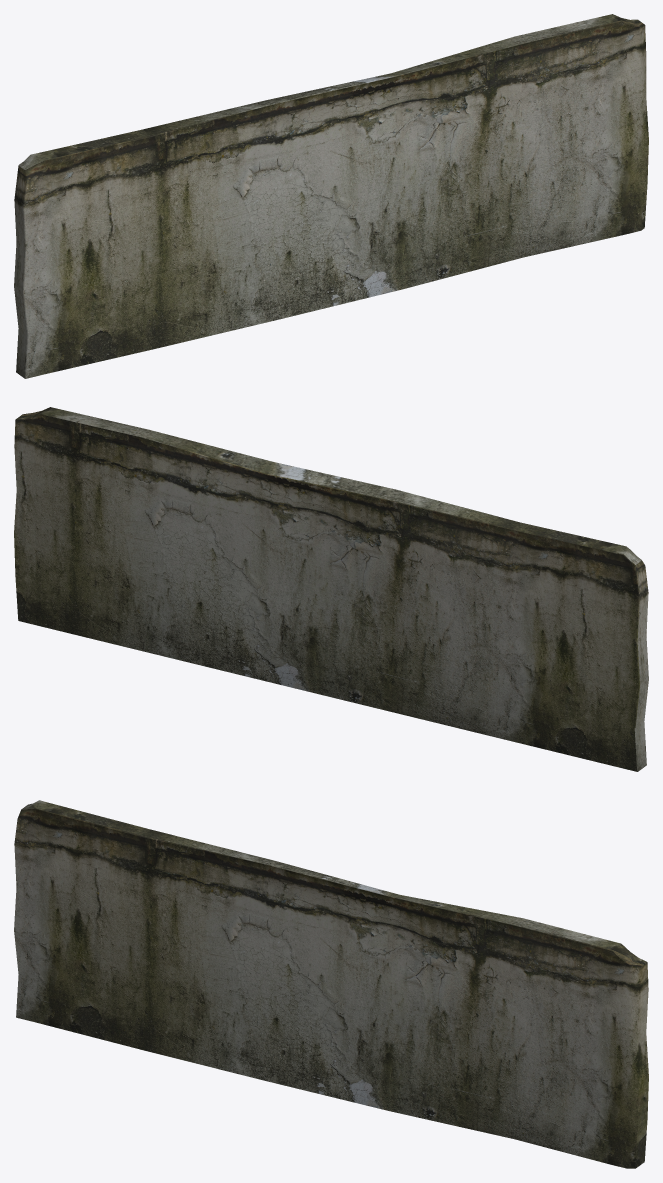
Rendered from Pared.obj.
3 renders of one model, top to bottom at view 1: azimuth 30°, elevation 25°; view 2: azimuth 150°, elevation 25°; view 3: azimuth 330°, elevation 25°, orthographic.
Visible parts, largest first — view 1: wall:Default; view 2: wall:Default; view 3: wall:Default.
Part boxes in pixels (left/top/right/bottom): wall:Default: left=14, top=14, right=648, bottom=378; wall:Default: left=14, top=407, right=648, bottom=771; wall:Default: left=14, top=800, right=648, bottom=1168.
Bounding box in the file's own units: 5.8 × 1.9 × 0.2411.
1 material, 1 textured.
